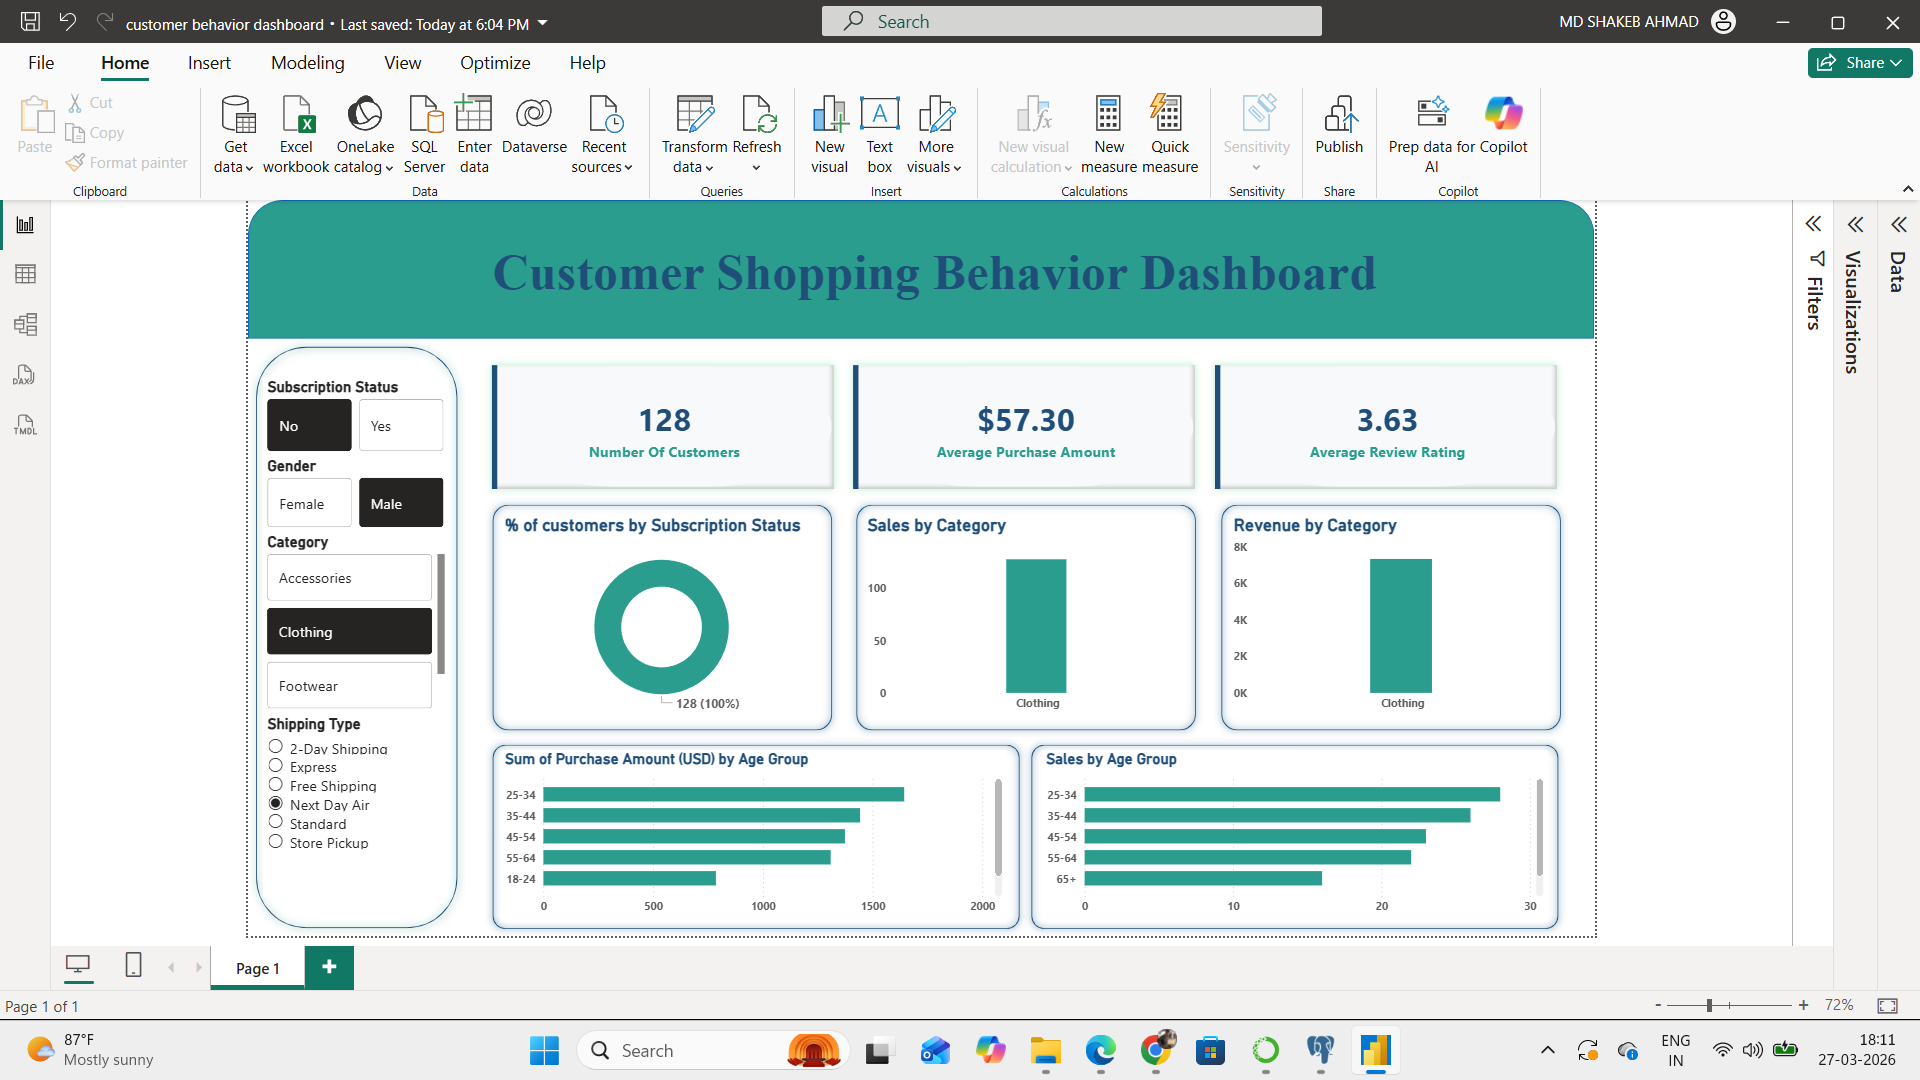

This screenshot's page, from the dashboard's own definition file:
{"tool":"powerbi","page":{"name":"Page 1","canvas":[1500,820],"ordinal":0},"visuals":[{"type":"cardVisual","fields":{"Data":["public customer.Number Of Customers","public customer.Average Purchase Amount","public customer.Average Review Rating"]},"box":[242.3,154.6,1247.8,196.4],"z":0},{"type":"shape","box":[0,0,1499.9,154.6],"z":1000},{"type":"textbox","box":[0,33.4,1499.9,121.2],"z":2000},{"type":"donutChart","title":"% of customers by Subscription Status","fields":{"Category":["public customer.Subscription Status"],"Y":["CountNonNull(public customer.Customer ID)"]},"box":[281.3,351,359.3,228.4],"z":3000},{"type":"clusteredColumnChart","title":"Revenue by Category","fields":{"Y":["Sum(public customer.Purchase Amount (USD))"],"Category":["public customer.Category"]},"box":[1093.2,351,362.1,228.4],"z":4000},{"type":"clusteredColumnChart","title":"Sales by Category","fields":{"Category":["public customer.Category"],"Y":["CountNonNull(public customer.Customer ID)"]},"box":[685.2,351,359.3,228.4],"z":5000},{"type":"shape","box":[264.6,331.5,394.1,267.4],"z":6000},{"type":"shape","box":[669.9,331.5,394.1,267.4],"z":7000},{"type":"shape","box":[1076.5,331.5,394.1,267.4],"z":8000},{"type":"shape","box":[0,154.6,242.3,665.7],"z":8001},{"type":"advancedSlicerVisual","fields":{"Values":["public customer.Subscription Status"]},"box":[16.7,197.8,207.5,87.7],"z":8002},{"type":"advancedSlicerVisual","fields":{"Values":["public customer.Gender"]},"box":[16.7,285.5,207.5,85],"z":8003},{"type":"advancedSlicerVisual","fields":{"Values":["public customer.Category"]},"box":[16.7,370.5,207.5,203.3],"z":8004},{"type":"listSlicer","fields":{"Values":["public customer.Shipping Type"]},"box":[16.7,573.8,207.5,203.3],"z":8005},{"type":"shape","box":[264.6,598.8,603,221.4],"z":8006},{"type":"clusteredBarChart","fields":{"Y":["Sum(public customer.Purchase Amount (USD))"],"Category":["public customer.Age Group"]},"box":[281.3,612.8,564,192.2],"z":8007},{"type":"shape","box":[864.8,598.8,603,221.4],"z":8008},{"type":"clusteredBarChart","title":"Sales by Age Group","fields":{"Y":["CountNonNull(public customer.Customer ID)"],"Category":["public customer.Age Group"]},"box":[884.3,612.8,564,192.2],"z":8009}]}

Visuals, with their boxes on the page's 1500x820 design canvas (x1, y1, x2, y2). These are canvas units, not pixel positions in the 1920x1080 screenshot, which may show the page scaled, cropped or inside an application window:
cardVisual - public customer.Number Of Customers x public customer.Average Purchase Amount: <box>242,155,1490,351</box>
shape: <box>0,0,1500,155</box>
textbox: <box>0,33,1500,155</box>
"% of customers by Subscription Status" donutChart: <box>281,351,641,579</box>
"Revenue by Category" clusteredColumnChart: <box>1093,351,1455,579</box>
"Sales by Category" clusteredColumnChart: <box>685,351,1044,579</box>
shape: <box>265,332,659,599</box>
shape: <box>670,332,1064,599</box>
shape: <box>1076,332,1471,599</box>
shape: <box>0,155,242,820</box>
advancedSlicerVisual - public customer.Subscription Status: <box>17,198,224,286</box>
advancedSlicerVisual - public customer.Gender: <box>17,286,224,370</box>
advancedSlicerVisual - public customer.Category: <box>17,370,224,574</box>
listSlicer - public customer.Shipping Type: <box>17,574,224,777</box>
shape: <box>265,599,868,820</box>
clusteredBarChart - Sum(public customer.Purchase Amount (USD)) x public customer.Age Group: <box>281,613,845,805</box>
shape: <box>865,599,1468,820</box>
"Sales by Age Group" clusteredBarChart: <box>884,613,1448,805</box>
